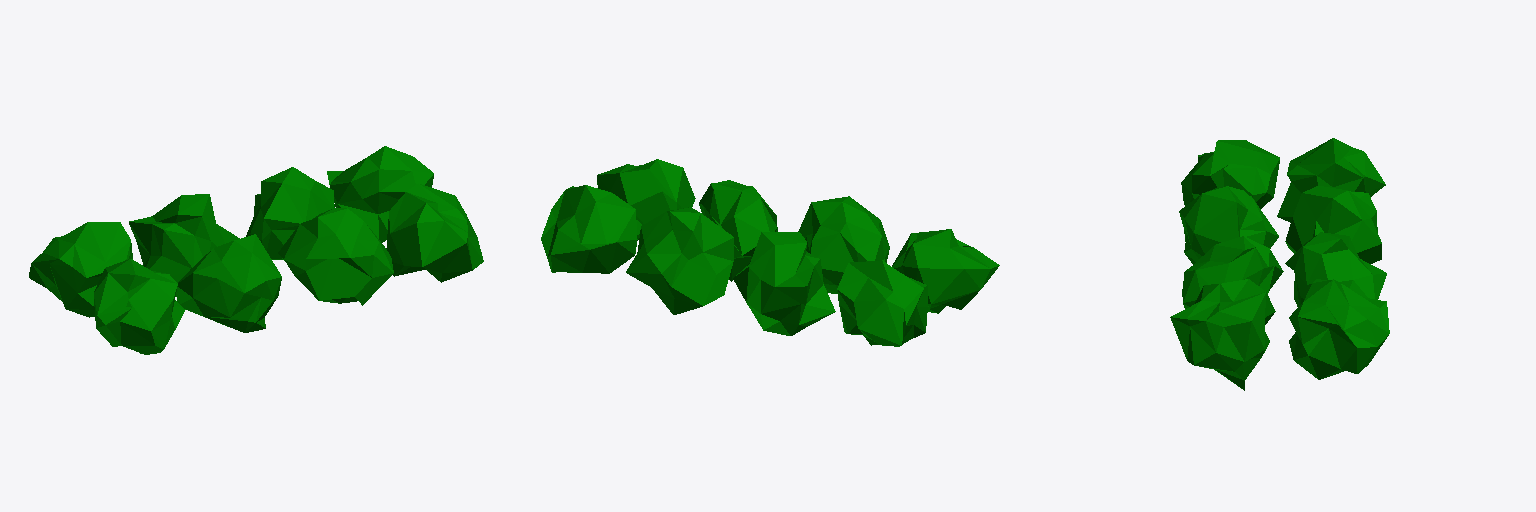
3 renders of one model, left to right at view 1: azimuth 30°, elevation 25°; view 2: azimuth 150°, elevation 25°; view 3: azimuth 270°, elevation 25°, orthographic.
Visible parts, largest first — view 1: GeoSphere006, GeoSphere004, GeoSphere005, GeoSphere001, GeoSphere002, GeoSphere003, GeoSphere007, GeoSphere008; view 2: GeoSphere008, GeoSphere003, GeoSphere007, GeoSphere002, GeoSphere001, GeoSphere004, GeoSphere005, GeoSphere006; view 3: GeoSphere005, GeoSphere007, GeoSphere003, GeoSphere004, GeoSphere001, GeoSphere002, GeoSphere008, GeoSphere006.
Boxes of the visible parts, <box> form: GeoSphere006: <box>278,208,393,305</box>; GeoSphere004: <box>176,234,281,332</box>; GeoSphere005: <box>386,183,483,282</box>; GeoSphere001: <box>94,259,185,354</box>; GeoSphere002: <box>29,222,132,317</box>; GeoSphere003: <box>129,194,239,282</box>; GeoSphere007: <box>327,146,433,242</box>; GeoSphere008: <box>246,167,334,259</box>; GeoSphere008: <box>626,207,733,314</box>; GeoSphere003: <box>733,232,835,335</box>; GeoSphere007: <box>541,185,637,273</box>; GeoSphere002: <box>837,261,927,346</box>; GeoSphere001: <box>892,229,999,313</box>; GeoSphere004: <box>798,196,889,293</box>; GeoSphere005: <box>597,159,695,240</box>; GeoSphere006: <box>699,180,777,281</box>; GeoSphere005: <box>1170,279,1275,390</box>; GeoSphere007: <box>1289,279,1389,379</box>; GeoSphere003: <box>1285,186,1381,263</box>; GeoSphere004: <box>1179,186,1278,264</box>; GeoSphere001: <box>1181,140,1279,208</box>; GeoSphere002: <box>1277,138,1385,222</box>; GeoSphere008: <box>1285,232,1386,306</box>; GeoSphere006: <box>1182,236,1283,308</box>.
Size of the model in its own units: 255 by 67.01 by 127.